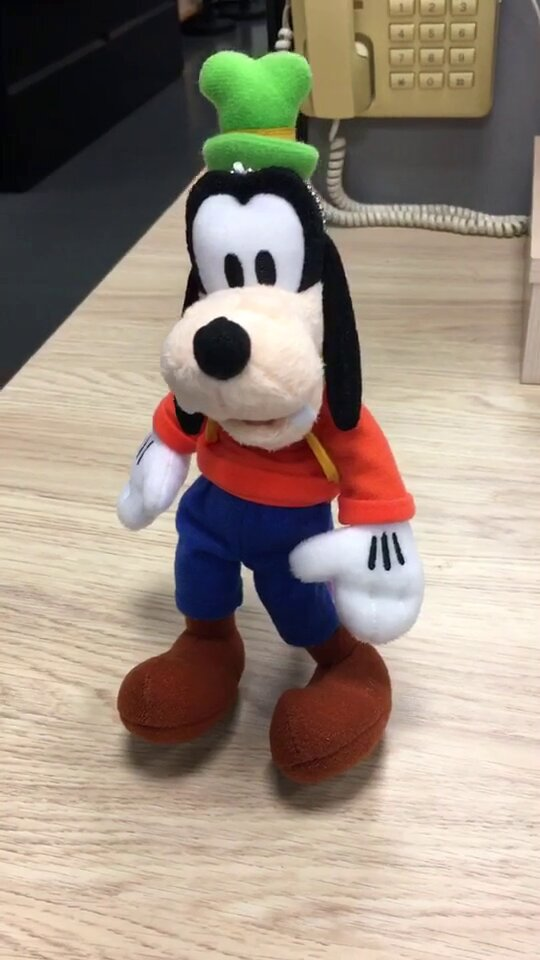goofy: (110, 46, 427, 792)
